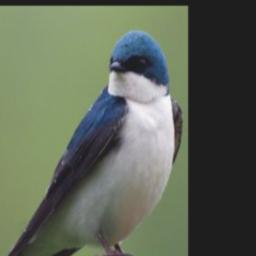Swallow: (0, 28, 183, 256)
